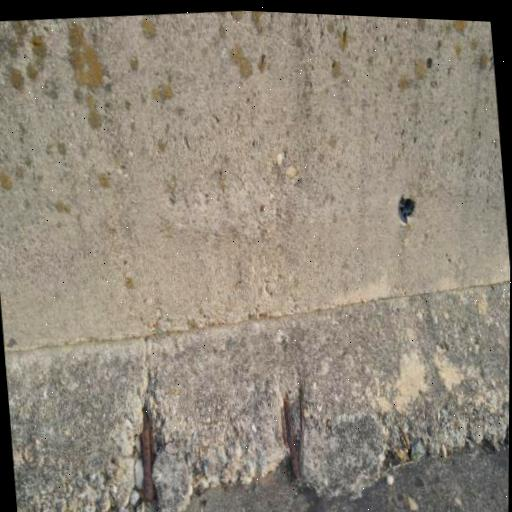exposed_rebar: (284, 396, 300, 477), (141, 406, 154, 502), (299, 396, 305, 467)
